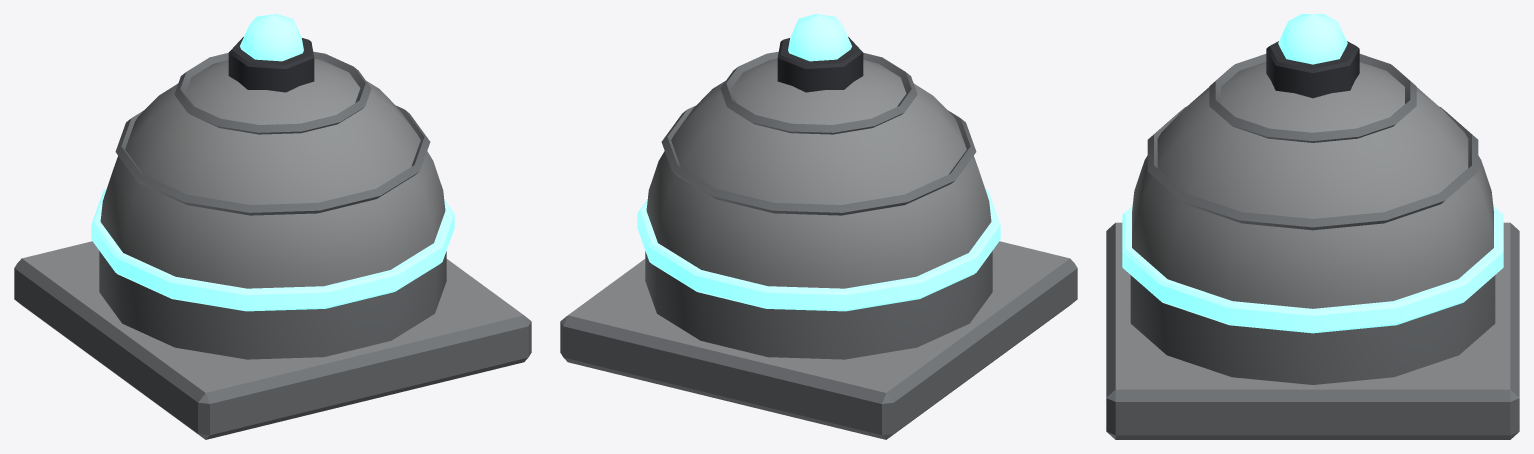
Rendered from R4X_PersonalShield_LOD1.glb.
3 renders of one model, left to right at view 1: azimuth 30°, elevation 25°; view 2: azimuth 150°, elevation 25°; view 3: azimuth 270°, elevation 25°, orthographic. The views are drawn at different scales.
Visible parts, largest first — view 1: R4X_PersonalShield_LOD1; view 2: R4X_PersonalShield_LOD1; view 3: R4X_PersonalShield_LOD1.
Boxes of the visible parts, x1,y1,x2,y2 form: R4X_PersonalShield_LOD1: (14, 14, 531, 439); R4X_PersonalShield_LOD1: (560, 14, 1077, 439); R4X_PersonalShield_LOD1: (1106, 14, 1519, 439).
Bounding box in the file's own units: 0.52 × 0.475 × 0.52.
